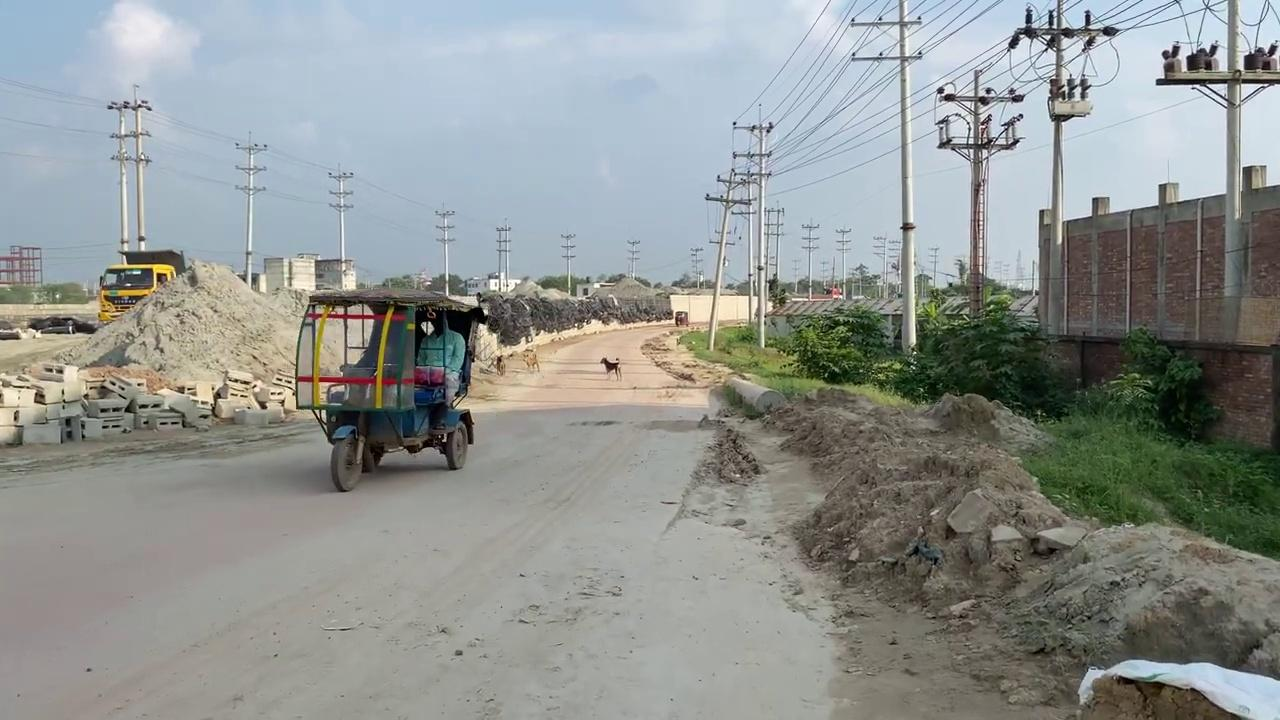Dog: (599, 356, 621, 380), (522, 348, 539, 371), (491, 353, 506, 375)
Garbage: (1067, 637, 1280, 720)
Pole: (233, 131, 267, 287)
Tree: (293, 287, 487, 491), (96, 261, 177, 324)
Upstairs: (1037, 180, 1278, 344)
